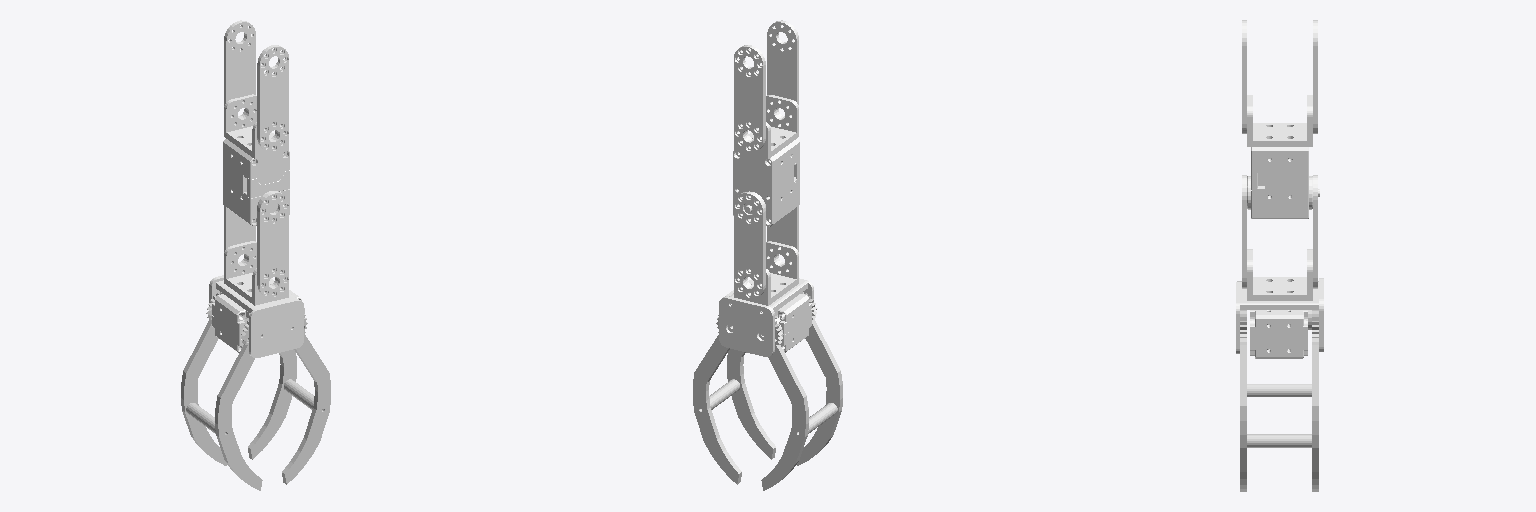
robot.urdf — s500_uam:
<?xml version="1.0" encoding="utf-8"?>
<!-- This URDF was automatically created by SolidWorks to URDF Exporter! Originally created by [author] ([email redacted]) 
     Commit Version: 1.6.0-4-g7f85cfe  Build Version: 1.6.7995.38578
     For more information, please see http://wiki.ros.org/sw_urdf_exporter -->
<robot name="s500_uam">
  <link name="base_link">
    <inertial>
      <origin
        xyz="0 0 0"
        rpy="0 0 0" />
      <mass
        value="1.772" />
      <inertia
        ixx="0.0165"
        ixy="0.0"
        ixz="0.0"
        iyy="0.0186"
        iyz="0.0"
        izz="0.0250" />
    </inertial>
    <visual>
      <origin
        xyz="0 0 0"
        rpy="0 0 0" />
      <geometry>
        <mesh
          filename="package://example-robot-data/robots/s500_description/meshes/base_link.dae" />
      </geometry>
      <material
        name="">
        <color
          rgba="0.752941176470588 0.752941176470588 0.752941176470588 1" />
      </material>
    </visual>
    <collision>
      <origin
        xyz="0 0 0"
        rpy="0 0 0" />
      <geometry>
        <mesh
          filename="package://example-robot-data/robots/s500_description/meshes/base_link.dae" />
      </geometry>
    </collision>
  </link>
  <link name="rotor_1">
    <inertial>
      <origin
        xyz="0 0 0"
        rpy="0 0 0" />
      <mass
        value="0.010198" />
      <inertia
        ixx="3.3719E-05"
        ixy="7.4123E-13"
        ixz="-4.3241E-07"
        iyy="3.3918E-05"
        iyz="-3.8834E-11"
        izz="2.8343E-07" />
    </inertial>
    <visual>
      <origin
        xyz="0 0 0"
        rpy="0 0 0" />
      <geometry>
        <mesh
          filename="package://example-robot-data/robots/s500_description/meshes/iris_prop_ccw.dae" />
      </geometry>
      <material
        name="">
        <color
          rgba="0.79216 0.81961 0.93333 1" />
      </material>
    </visual>
    <collision>
      <origin
        xyz="0 0 0"
        rpy="0 0 0" />
      <geometry>
        <mesh
          filename="package://example-robot-data/robots/s500_description/meshes/iris_prop_ccw.dae" />
      </geometry>
    </collision>
  </link>
  <joint name="rotor_joint_1" type="fixed">
    <origin
      xyz="0.171 0.171 0.07"
      rpy="0 0 0" />
    <parent
      link="base_link" />
    <child
      link="rotor_1" />
    <axis
      xyz="0 1 0" />
  </joint>
  <link name="rotor_2">
    <inertial>
      <origin
        xyz="0 0 0"
        rpy="0 0 0" />
      <mass
        value="0.010198" />
      <inertia
        ixx="3.3719E-05"
        ixy="-8.3558E-13"
        ixz="-4.3246E-07"
        iyy="3.3919E-05"
        iyz="-4.2468E-11"
        izz="2.8344E-07" />
    </inertial>
    <visual>
      <origin
        xyz="0 0 0"
        rpy="0 0 0" />
      <geometry>
        <mesh
          filename="package://example-robot-data/robots/s500_description/meshes/iris_prop_ccw.dae" />
      </geometry>
      <material
        name="">
        <color
          rgba="0.79216 0.81961 0.93333 1" />
      </material>
    </visual>
    <collision>
      <origin
        xyz="0 0 0"
        rpy="0 0 0" />
      <geometry>
        <mesh
          filename="package://example-robot-data/robots/s500_description/meshes/iris_prop_ccw.dae" />
      </geometry>
    </collision>
  </link>
  <joint name="rotor_joint_2" type="fixed">
    <origin
      xyz="-0.171 0.171 0.07"
      rpy="0 0 0" />
    <parent
      link="base_link" />
    <child
      link="rotor_2" />
    <axis
      xyz="0 1 0" />
  </joint>
  <link name="rotor_3">
    <inertial>
      <origin
        xyz="0 0 0"
        rpy="0 0 0" />
      <mass
        value="0.010198" />
      <inertia
        ixx="3.3719E-05"
        ixy="1.6825E-12"
        ixz="-4.3246E-07"
        iyy="3.3919E-05"
        iyz="-5.4463E-11"
        izz="2.8343E-07" />
    </inertial>
    <visual>
      <origin
        xyz="0 0 0"
        rpy="0 0 0" />
      <geometry>
        <mesh
          filename="package://example-robot-data/robots/s500_description/meshes/iris_prop_cw.dae" />
      </geometry>
      <material
        name="">
        <color
          rgba="0.79216 0.81961 0.93333 1" />
      </material>
    </visual>
    <collision>
      <origin
        xyz="0 0 0"
        rpy="0 0 0" />
      <geometry>
        <mesh
          filename="package://example-robot-data/robots/s500_description/meshes/iris_prop_cw.dae" />
      </geometry>
    </collision>
  </link>
  <joint name="rotor_joint_3" type="fixed">
    <origin
      xyz="-0.171 -0.171 0.07"
      rpy="0 0 0" />
    <parent
      link="base_link" />
    <child
      link="rotor_3" />
    <axis
      xyz="0 1 0" />
  </joint>
  <link name="rotor_4">
    <inertial>
      <origin
        xyz="0 0 0"
        rpy="0 0 0" />
      <mass
        value="0.010198" />
      <inertia
        ixx="3.3719E-05"
        ixy="1.1737E-12"
        ixz="-4.3243E-07"
        iyy="3.3918E-05"
        iyz="-4.6991E-11"
        izz="2.8343E-07" />
    </inertial>
    <visual>
      <origin
        xyz="0 0 0"
        rpy="0 0 0" />
      <geometry>
        <mesh
          filename="package://example-robot-data/robots/s500_description/meshes/iris_prop_cw.dae" />
      </geometry>
      <material
        name="">
        <color
          rgba="0.79216 0.81961 0.93333 1" />
      </material>
    </visual>
    <collision>
      <origin
        xyz="0 0 0"
        rpy="0 0 0" />
      <geometry>
        <mesh
          filename="package://example-robot-data/robots/s500_description/meshes/iris_prop_cw.dae" />
      </geometry>
    </collision>
  </link>
  <joint name="rotor_joint_4" type="fixed">
    <origin
      xyz="0.1701 -0.1701 0.07"
      rpy="0 0 0" />
    <parent
      link="base_link" />
    <child
      link="rotor_4" />
    <axis
      xyz="0 1 0" />
  </joint>
  <link name="link_1">
    <inertial>
      <origin
        xyz="-5.7463E-12 -0.00019643 -0.076809"
        rpy="0 0 0" />
      <mass
        value="0.056776" />
      <inertia
        ixx="1.5689E-05"
        ixy="-1.0155E-16"
        ixz="-5.2428E-15"
        iyy="1.3617E-05"
        iyz="-1.6017E-09"
        izz="8.7857E-06" />
    </inertial>
    <visual>
      <origin
        xyz="0 0 0"
        rpy="0 0 0" />
      <geometry>
        <mesh
          filename="package://example-robot-data/robots/s500_description/meshes/link_1.STL" />
      </geometry>
      <material
        name="">
        <color
          rgba="1 1 1 1" />
      </material>
    </visual>
    <collision>
      <origin
        xyz="0 0 0"
        rpy="0 0 0" />
      <geometry>
        <mesh
          filename="package://example-robot-data/robots/s500_description/meshes/link_1.STL" />
      </geometry>
    </collision>
  </link>
  <joint name="joint_1" type="revolute">
    <origin
      xyz="0.0007 0 -0.07275"
      rpy="0 0 0" />
    <parent
      link="base_link" />
    <child
      link="link_1" />
    <axis xyz="0 1 0" />
    <limit effort="1" lower="-1.5" upper="1.5" velocity="3"/>
    <dynamics damping="0.1" friction="0.1"/>
  </joint>
  <link name="link_2">
    <inertial>
      <origin
        xyz="0.00057539 0.00024651 -0.072261"
        rpy="0 0 0" />
      <mass
        value="0.065663" />
      <inertia
        ixx="1.3006E-05"
        ixy="2.5553E-07"
        ixz="4.4082E-09"
        iyy="1.4985E-05"
        iyz="-6.0777E-07"
        izz="1.6054E-05" />
    </inertial>
    <visual>
      <origin
        xyz="0 0 0"
        rpy="0 0 0" />
      <geometry>
        <mesh
          filename="package://example-robot-data/robots/s500_description/meshes/link_2.STL" />
      </geometry>
      <material
        name="">
        <color
          rgba="1 1 1 1" />
      </material>
    </visual>
    <collision>
      <origin
        xyz="0 0 0"
        rpy="0 0 0" />
      <geometry>
        <mesh
          filename="package://example-robot-data/robots/s500_description/meshes/link_2.STL" />
      </geometry>
    </collision>
  </link>
  <joint name="joint_2" type="revolute">
    <origin
      xyz="0 0 -0.09925"
      rpy="0 0 0" />
    <parent
      link="link_1" />
    <child
      link="link_2" />
    <axis xyz="0 1 0" />
    <limit effort="1" lower="-1.5" upper="1.5" velocity="3"/>
    <dynamics damping="0.1" friction="0.1"/>
  </joint>
  <link name="link_3">
    <inertial>
      <origin
        xyz="0.025274 0.000991 -0.041284"
        rpy="0 0 0" />
      <mass
        value="0.012158" />
      <inertia
        ixx="1.0667E-05"
        ixy="-2.5213E-09"
        ixz="3.6553E-06"
        iyy="1.2675E-05"
        iyz="4.2721E-09"
        izz="2.4775E-06" />
    </inertial>
    <visual>
      <origin
        xyz="0 0 0"
        rpy="0 0 0" />
      <geometry>
        <mesh
          filename="package://example-robot-data/robots/s500_description/meshes/link_3.STL" />
      </geometry>
      <material
        name="">
        <color
          rgba="0.92157 0.92157 0.92157 1" />
      </material>
    </visual>
    <collision>
      <origin
        xyz="0 0 0"
        rpy="0 0 0" />
      <geometry>
        <mesh
          filename="package://example-robot-data/robots/s500_description/meshes/link_3.STL" />
      </geometry>
    </collision>
  </link>
  <joint name="joint_3" type="fixed">
    <origin
      xyz="-0.011 0 -0.08225"
      rpy="0 0.23432 3.1416" />
    <parent
      link="link_2" />
    <child
      link="link_3" />
    <axis
      xyz="0 1 0" />
  </joint>
  <link name="link_4">
    <inertial>
      <origin
        xyz="0.024422 -0.0009913 -0.039818"
        rpy="0 0 0" />
      <mass
        value="0.012587" />
      <inertia
        ixx="1.1294E-05"
        ixy="2.4212E-09"
        ixz="4.0228E-06"
        iyy="1.352E-05"
        iyz="-4.1022E-09"
        izz="2.6966E-06" />
    </inertial>
    <visual>
      <origin
        xyz="0 0 0"
        rpy="0 0 0" />
      <geometry>
        <mesh
          filename="package://example-robot-data/robots/s500_description/meshes/link_4.STL" />
      </geometry>
      <material
        name="">
        <color
          rgba="0.92157 0.92157 0.92157 1" />
      </material>
    </visual>
    <collision>
      <origin
        xyz="0 0 0"
        rpy="0 0 0" />
      <geometry>
        <mesh
          filename="package://example-robot-data/robots/s500_description/meshes/link_4.STL" />
      </geometry>
    </collision>
  </link>
  <joint name="joint_4" type="fixed">
    <origin
      xyz="0.011 0 -0.08225"
      rpy="0 0.26237 0" />
    <parent
      link="link_2" />
    <child
      link="link_4" />
    <axis
      xyz="0 1 0" />
  </joint>
</robot>

--- Facts derived from the render (not from the file) ---
The picture shows the robot from 3 angles, left to right: view 1: azimuth 30°, elevation 25°; view 2: azimuth 150°, elevation 25°; view 3: azimuth 270°, elevation 25°; orthographic projection.
Model s500_uam with 9 links and 8 joints (2 revolute, 6 fixed), rooted at base_link, posed all joints at 0.
Visible links, largest first — view 1: link_1, link_2, link_3, link_4; view 2: link_1, link_2, link_3, link_4; view 3: link_1, link_2, link_4, link_3.
Link boxes in pixels (<box>): link_1: <box>223,20,289,225</box>; link_2: <box>209,191,304,357</box>; link_3: <box>181,292,262,490</box>; link_4: <box>248,314,330,484</box>; link_1: <box>733,20,799,226</box>; link_2: <box>719,192,813,356</box>; link_3: <box>761,292,842,490</box>; link_4: <box>693,315,775,484</box>; link_1: <box>1242,20,1319,218</box>; link_2: <box>1236,175,1323,358</box>; link_4: <box>1240,310,1318,491</box>; link_3: <box>1247,384,1311,396</box>.
Size in the robot's own frame: 0.0803 by 0.051 by 0.2981 metres.
4 mesh visuals loaded from 7 distinct referenced files (4 binary STL); not drawn: 5 (reference not matched to a file when rendering).